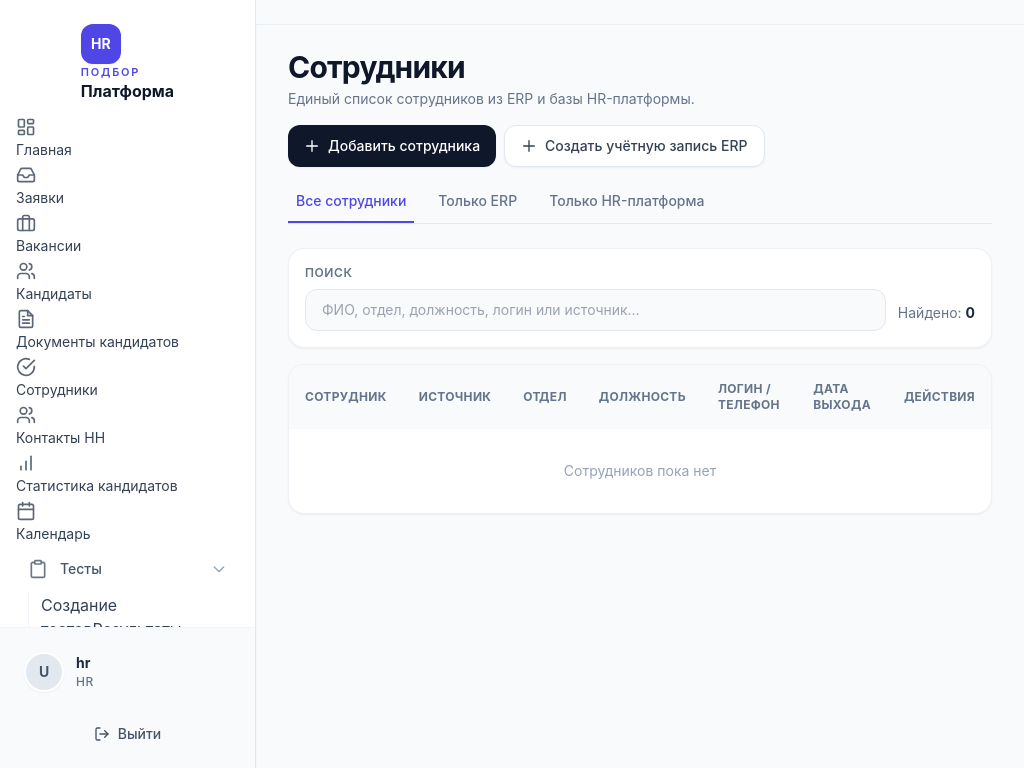
Test: EmployeePage › defaults to the unified directory and opens ERP create form
Expected: the element with test id "all-employees-table" is shown, [288,364,992,514]
Click the button with test id "add-panel-user". click: (634, 146)
box: [504,125,764,167]
(page scrolled)
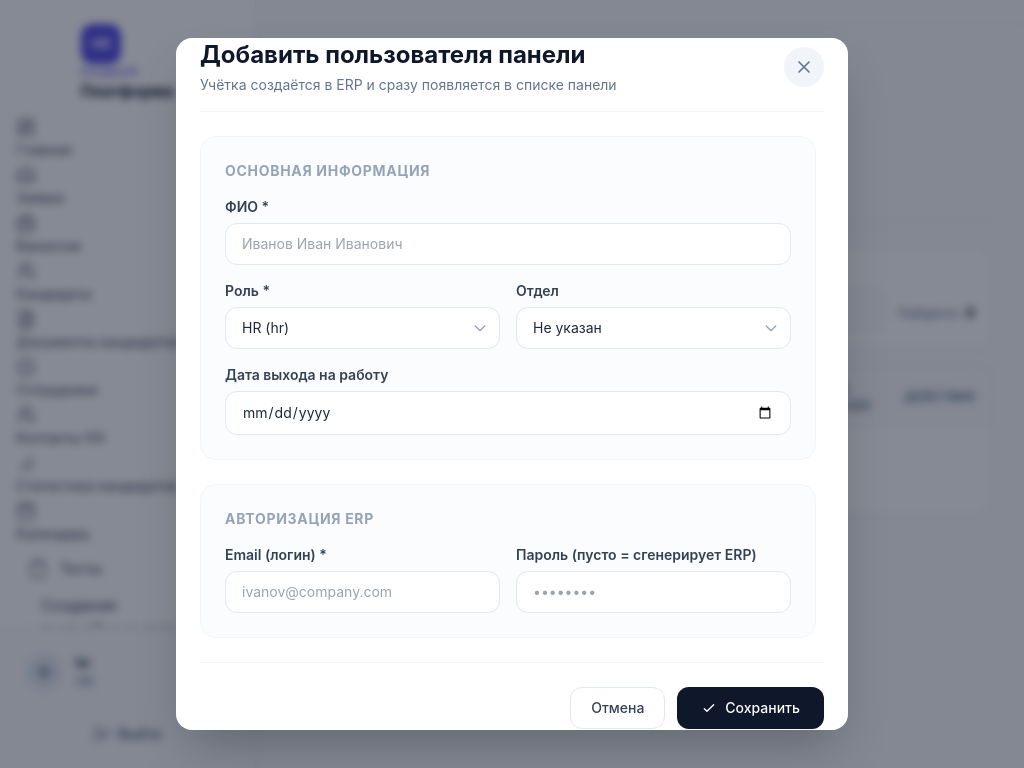
Expected: the form with test id "panel-user-form" is shown, [176,38,848,730]
